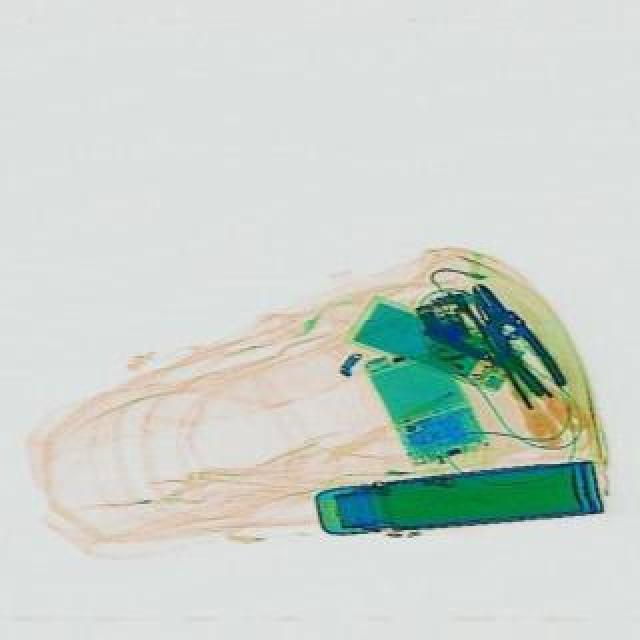wrench: (454, 274, 568, 402)
